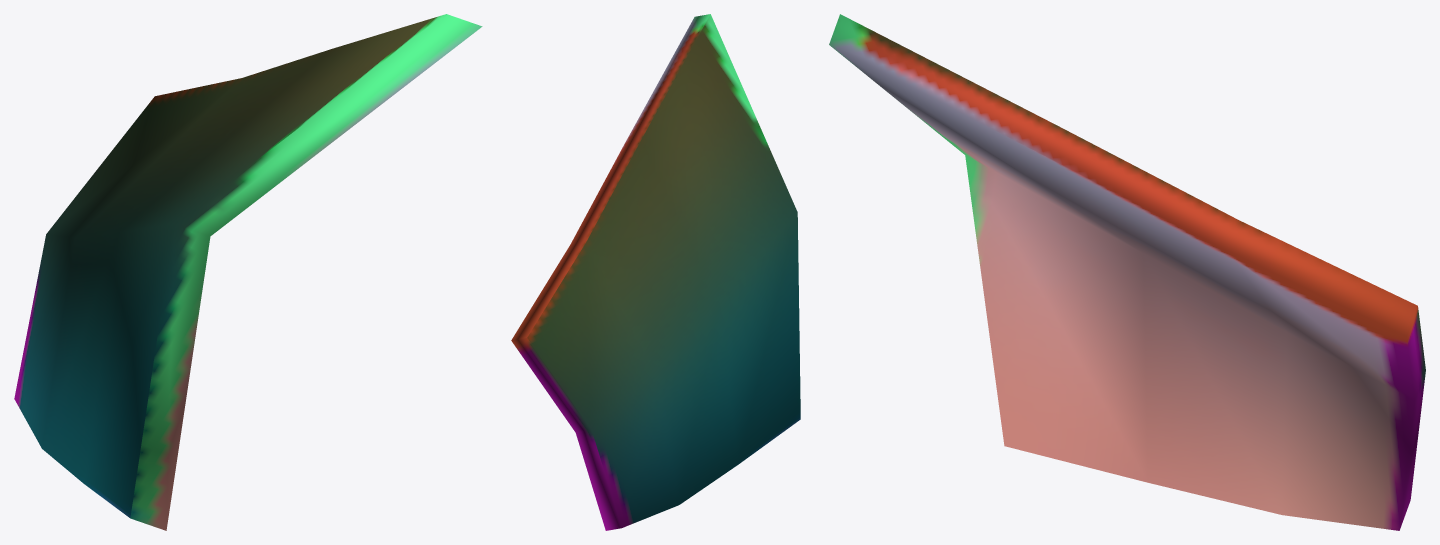
Rendered from ElipAla3Twin.obj.
The picture shows the model from 3 angles, left to right: view 1: azimuth 30°, elevation 25°; view 2: azimuth 150°, elevation 25°; view 3: azimuth 270°, elevation 25°; orthographic projection. The views are drawn at different scales.
Parts seen in each view (by area): view 1: Sphere.007_Sphere.006; view 2: Sphere.007_Sphere.006; view 3: Sphere.007_Sphere.006.
Part boxes in pixels (x1,y1,x2,y2): Sphere.007_Sphere.006: [14, 14, 482, 530]; Sphere.007_Sphere.006: [511, 14, 800, 530]; Sphere.007_Sphere.006: [829, 14, 1425, 530].
Bounding box in the file's own units: 0.3858 × 0.8168 × 0.7704.
